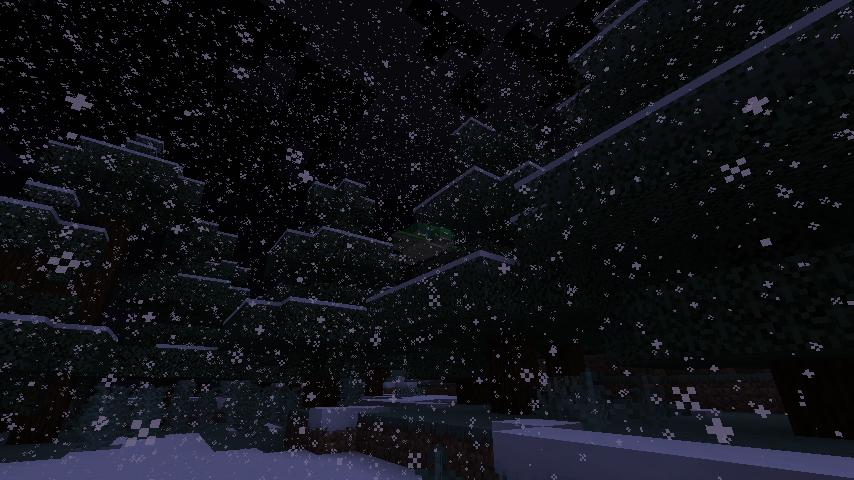turtle: (389, 222, 464, 267)
